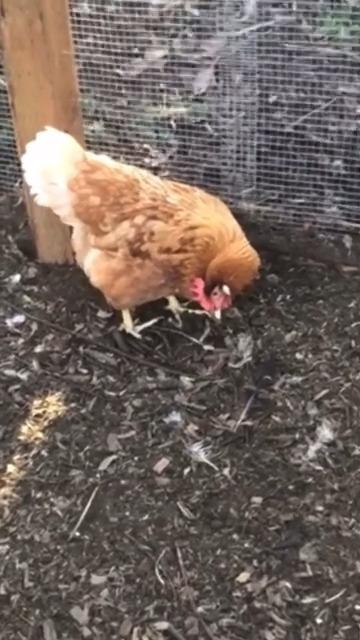AbNormal: (32, 135, 266, 344)
